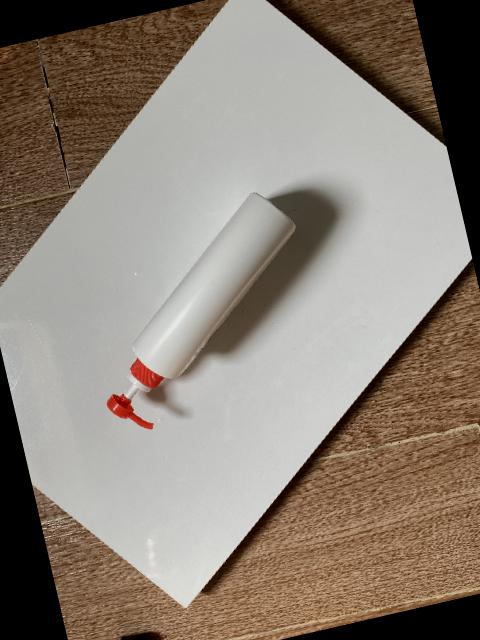life-buoy: (106, 192, 296, 430)
